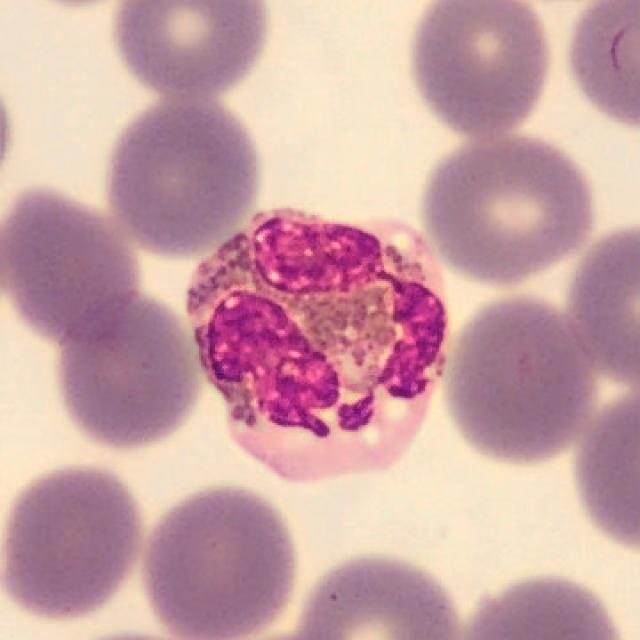Eosinofilo: (185, 208, 450, 485)
